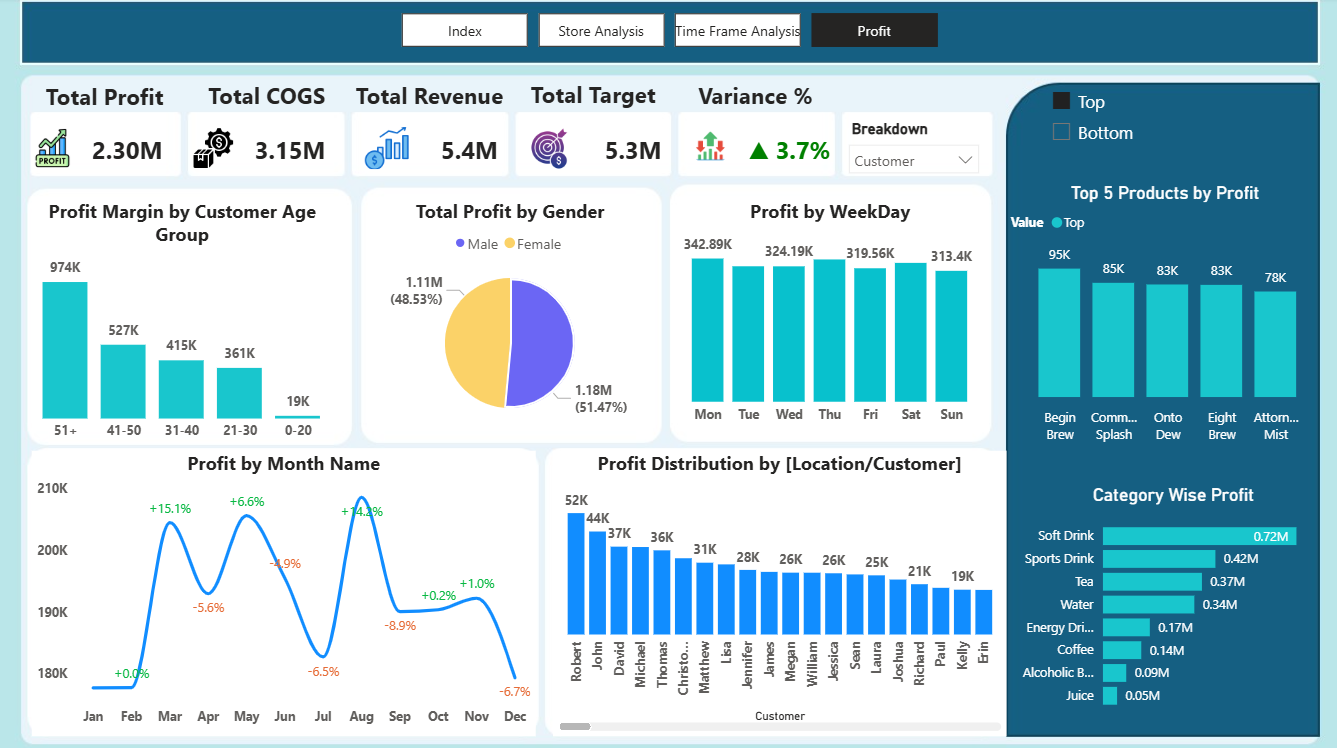

What the dashboard file says about the page in this screenshot:
{"tool":"powerbi","page":{"name":"Profit","canvas":[1280,720],"ordinal":3},"visuals":[{"type":"clusteredColumnChart","title":"Top 5 Products by Profit","fields":{"Category":["products_table.Product Name"],"Y":["Key Measures.Profit Margin"],"Series":["TopBottom2.Value"]},"box":[960,176,304,256],"z":0},{"type":"clusteredBarChart","title":"Category Wise Profit","fields":{"Category":["products_table.Category"],"Y":["Key Measures.Profit Margin"]},"box":[960,464,320,224],"z":1000},{"type":"clusteredColumnChart","title":"Profit Margin by Customer Age Group","fields":{"Category":["customers_table.Customer Age Group"],"Y":["Key Measures.Profit Margin"]},"box":[16,192,320,240],"z":2000},{"type":"pieChart","fields":{"Y":["Key Measures.Profit Margin"],"Category":["customers_table.Gender"]},"box":[336,192,304,224],"z":3000},{"type":"clusteredColumnChart","title":"Profit by WeekDay","fields":{"Y":["Key Measures.Profit Margin"],"Category":["Dimension Date.Day Name"]},"box":[640,192,304,224],"z":4000},{"type":"lineChart","title":"Profit by Month Name","fields":{"Category":["Dimension Date.Month Name"],"Y":["Key Measures.Profit Margin"]},"box":[32,432,480,272],"z":5000},{"type":"cardVisual","fields":{"Data":["Key Measures.Total Revenue"]},"box":[324,112,176,64],"z":6000},{"type":"cardVisual","fields":{"Data":["Key Measures.Total Target"]},"box":[480,112,176,64],"z":7000},{"type":"cardVisual","fields":{"Data":["Key Measures.Vraince % Indicator"]},"box":[640,112,176,64],"z":8000},{"type":"cardVisual","fields":{"Data":["Key Measures.COGS"]},"box":[160,112,176,64],"z":9000},{"type":"columnChart","title":"Profit Distribution by [Location/Customer]","fields":{"Y":["Key Measures.Total Profit","CountNonNull(TopBottom.Value)"],"Category":["customers_table.First Name"]},"box":[528,432,432,272],"z":10000},{"type":"slicer","fields":{"Values":["Breakdown.Breakdown"]},"box":[800,112,144,64],"z":11000},{"type":"pageNavigator","box":[384,16,512,32],"z":12000},{"type":"slicer","fields":{"Values":["TopBottom2.Value"]},"box":[992,80,144,80],"z":14000},{"type":"textbox","box":[336,74,160,39],"z":15000},{"type":"textbox","box":[502,73,144,48],"z":16000},{"type":"textbox","box":[662,74,128,48],"z":17000},{"type":"textbox","box":[195,74,144,48],"z":18000},{"type":"cardVisual","fields":{"Data":["Key Measures.Total Profit"]},"box":[16,112,160,64],"z":19000},{"type":"textbox","box":[40,75,128,48],"z":20000}]}

Visuals, with their boxes in screenshot pixels (x1, y1, x2, y2), scaled from the page's 1280x720 canvas onto the 1337x748 screenshot:
"Top 5 Products by Profit" clusteredColumnChart: locate(1003, 183, 1320, 449)
"Category Wise Profit" clusteredBarChart: locate(1003, 482, 1336, 715)
"Profit Margin by Customer Age Group" clusteredColumnChart: locate(17, 199, 351, 449)
pieChart - Key Measures.Profit Margin x customers_table.Gender: locate(351, 199, 668, 432)
"Profit by WeekDay" clusteredColumnChart: locate(668, 199, 986, 432)
"Profit by Month Name" lineChart: locate(33, 449, 535, 731)
cardVisual - Key Measures.Total Revenue: locate(338, 116, 522, 183)
cardVisual - Key Measures.Total Target: locate(501, 116, 685, 183)
cardVisual - Key Measures.Vraince % Indicator: locate(668, 116, 852, 183)
cardVisual - Key Measures.COGS: locate(167, 116, 351, 183)
"Profit Distribution by [Location/Customer]" columnChart: locate(552, 449, 1003, 731)
slicer - Breakdown.Breakdown: locate(836, 116, 986, 183)
pageNavigator: locate(401, 17, 936, 50)
slicer - TopBottom2.Value: locate(1036, 83, 1187, 166)
textbox: locate(351, 77, 518, 117)
textbox: locate(524, 76, 675, 126)
textbox: locate(691, 77, 825, 127)
textbox: locate(204, 77, 354, 127)
cardVisual - Key Measures.Total Profit: locate(17, 116, 184, 183)
textbox: locate(42, 78, 175, 128)
